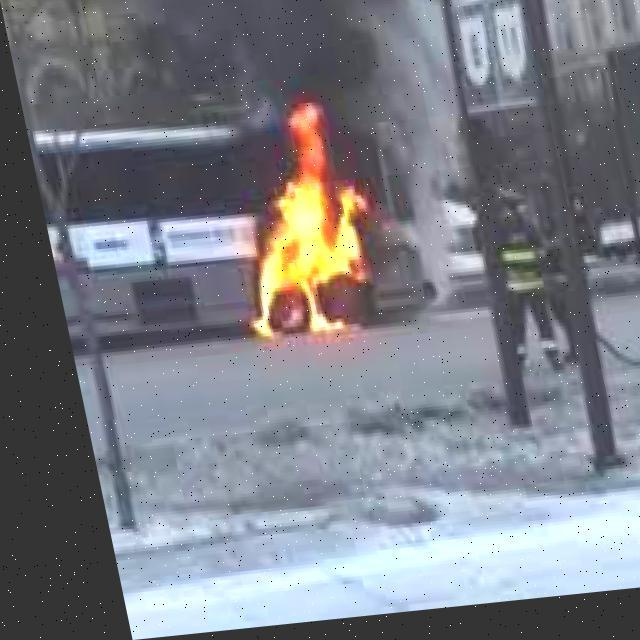Fire: (194, 101, 394, 342)
